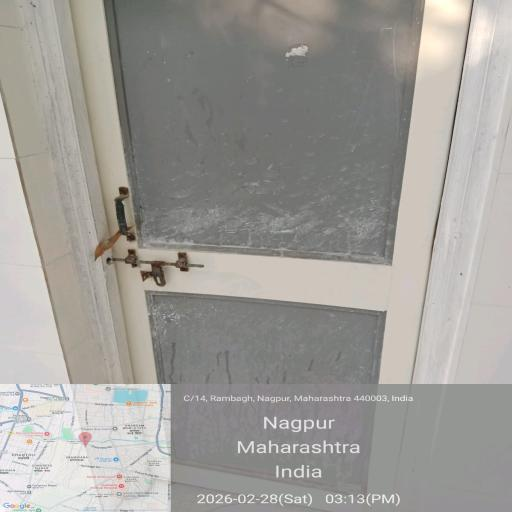clean_floor: (72, 32, 448, 497)
